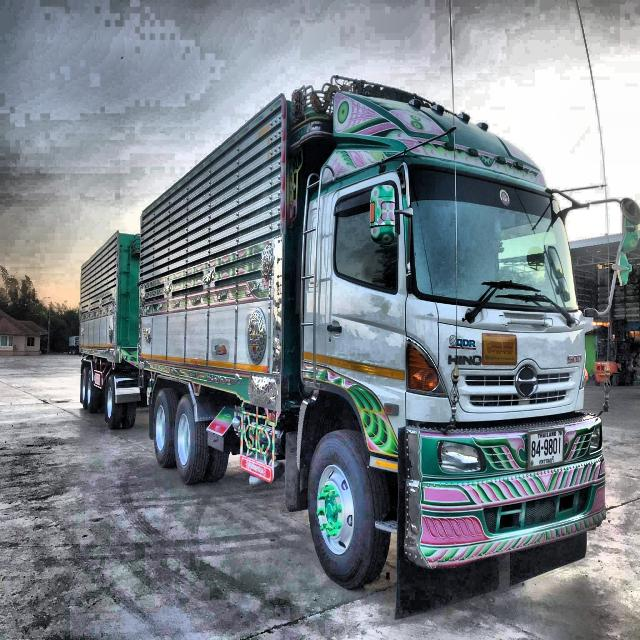trailer: (72, 67, 612, 601)
